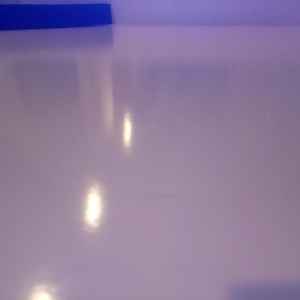zone: (1, 3, 113, 31)
